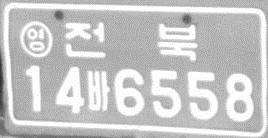1: (20, 63, 50, 112)
4: (54, 65, 84, 113)
5: (186, 70, 218, 121), (150, 69, 182, 118)
6: (113, 67, 144, 117)
8: (224, 71, 254, 123)
바: (86, 70, 110, 112)
영: (18, 20, 52, 59)
전북_D: (63, 21, 199, 62)
